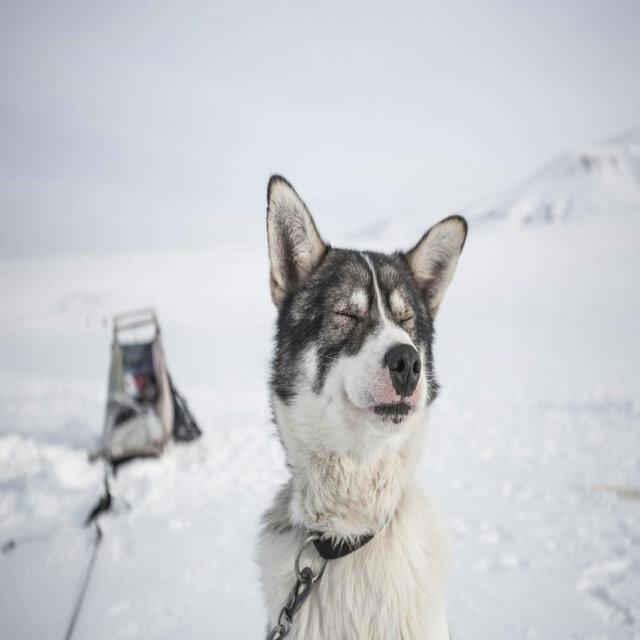husky: (254, 172, 470, 638)
